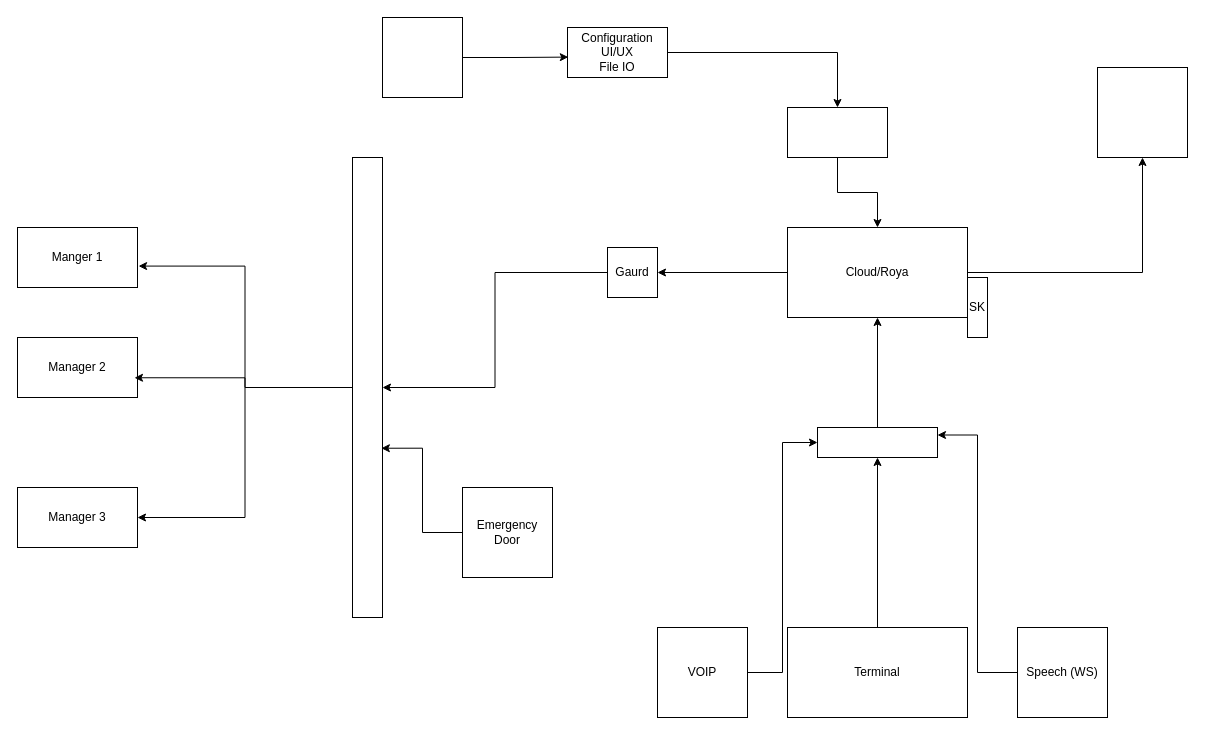
The diagram is 1205 pixels wide and 735 high, and some of its shapes have lost their labels. The shapes that lost their labels are listed below. From the top down, each one's centre as x and y in pixels, then its label:
At (x=422, y=57): "Configuration Example file".
At (x=837, y=132): "f(x) registry Discovery".
At (x=1142, y=112): "Memory".
At (x=367, y=387): "A2A".
At (x=877, y=442): "Firewall".
